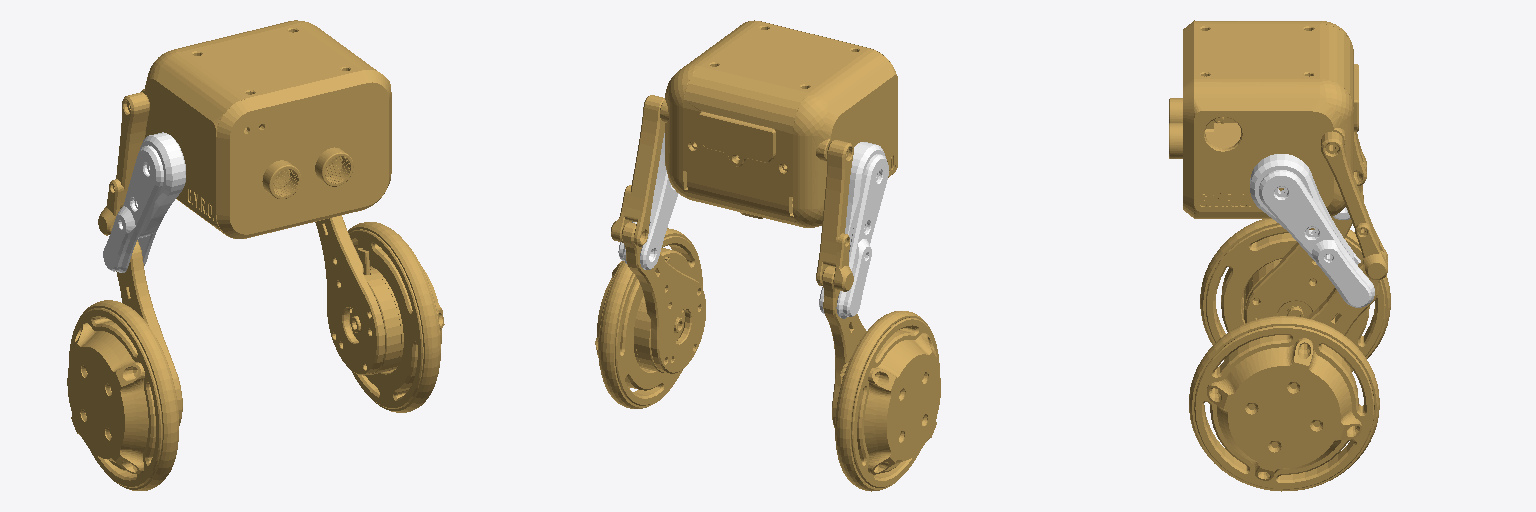
robot.urdf — final_assem1:
<?xml version="1.0" encoding="utf-8"?>
<!-- This URDF was automatically created by SolidWorks to URDF Exporter! Originally created by Stephen Brawner (brawner@gmail.com) 
     Commit Version: 1.6.0-4-g7f85cfe  Build Version: 1.6.7995.38578
     For more information, please see http://wiki.ros.org/sw_urdf_exporter -->
<robot
  name="final_assem1">
  <link
    name="base_link">
    <inertial>
      <origin
        xyz="-0.000139721801491114 -0.00891990633346567 0.0545743288243184"
        rpy="0 0 0" />
      <mass
        value="0.159950800281223" />
      <inertia
        ixx="0.000101651221169945"
        ixy="-5.03027315632965E-07"
        ixz="-3.14720393636409E-07"
        iyy="8.30155851218814E-05"
        iyz="-1.16211308639477E-07"
        izz="7.63971955846295E-05" />
    </inertial>
    <visual>
      <origin
        xyz="0 0 0"
        rpy="0 0 0" />
      <geometry>
        <mesh
          filename="package://final_assem1/meshes/base_link.STL" />
      </geometry>
      <material
        name="">
        <color
          rgba="0.831372549019608 0.690196078431373 0.411764705882353 1" />
      </material>
    </visual>
    <collision>
      <origin
        xyz="0 0 0"
        rpy="0 0 0" />
      <geometry>
        <mesh
          filename="package://final_assem1/meshes/base_link.STL" />
      </geometry>
    </collision>
  </link>
  <link
    name="left_upper_leg">
    <inertial>
      <origin
        xyz="-0.00184708635185678 0.0100059621422932 -0.0285283368255314"
        rpy="0 0 0" />
      <mass
        value="0.00481811147020876" />
      <inertia
        ixx="1.41741993918074E-06"
        ixy="4.69213357044146E-09"
        ixz="-1.38700106399785E-08"
        iyy="1.27343060592573E-06"
        iyz="4.28528860028656E-07"
        izz="2.07027979604884E-07" />
    </inertial>
    <visual>
      <origin
        xyz="0 0 0"
        rpy="0 0 0" />
      <geometry>
        <mesh
          filename="package://final_assem1/meshes/left_upper_leg.STL" />
      </geometry>
      <material
        name="">
        <color
          rgba="0.831372549019608 0.690196078431373 0.411764705882353 1" />
      </material>
    </visual>
    <collision>
      <origin
        xyz="0 0 0"
        rpy="0 0 0" />
      <geometry>
        <mesh
          filename="package://final_assem1/meshes/left_upper_leg.STL" />
      </geometry>
    </collision>
  </link>
  <joint
    name="left_hip_joint "
    type="revolute">
    <origin
      xyz="0.051451 0.021878 0.068469"
      rpy="0 0 0" />
    <parent
      link="base_link" />
    <child
      link="left_upper_leg" />
    <axis
      xyz="0 1 0" />
    <limit
      lower="-1.5708"
      upper="1.5708"
      effort="10"
      velocity="1" />
  </joint>
  <link
    name="left_white_link">
    <inertial>
      <origin
        xyz="-0.00351284833519087 0.0128483484296868 -0.0184981200243466"
        rpy="0 0 0" />
      <mass
        value="0.0136561820327731" />
      <inertia
        ixx="6.17217204117299E-06"
        ixy="4.19205286188994E-08"
        ixz="-6.25043138706162E-08"
        iyy="4.07412559256232E-06"
        iyz="2.44806528777692E-06"
        izz="2.26520125441869E-06" />
    </inertial>
    <visual>
      <origin
        xyz="0 0 0"
        rpy="0 0 0" />
      <geometry>
        <mesh
          filename="package://final_assem1/meshes/left_white_link.STL" />
      </geometry>
      <material
        name="">
        <color
          rgba="1 1 1 1" />
      </material>
    </visual>
    <collision>
      <origin
        xyz="0 0 0"
        rpy="0 0 0" />
      <geometry>
        <mesh
          filename="package://final_assem1/meshes/left_white_link.STL" />
      </geometry>
    </collision>
  </link>
  <joint
    name="left_white_top_joint"
    type="revolute">
    <origin
      xyz="0.054451 -0.00061239 0.048645"
      rpy="0 0 0" />
    <parent
      link="base_link" />
    <child
      link="left_white_link" />
    <axis
      xyz="0 1 0" />
    <limit
      lower="-1.5708"
      upper="1.5708"
      effort="10"
      velocity="1" />
  </joint>
  <link
    name="left_lower_leg">
    <inertial>
      <origin
        xyz="0.00231170043375459 -0.020218633930963 -0.0300564744848089"
        rpy="0 0 0" />
      <mass
        value="0.0110711607256669" />
      <inertia
        ixx="9.00075441423128E-06"
        ixy="-7.53431601817711E-08"
        ixz="-1.1946791590394E-07"
        iyy="5.98802246702853E-06"
        iyz="-3.24532440359061E-06"
        izz="3.06893341498831E-06" />
    </inertial>
    <visual>
      <origin
        xyz="0 0 0"
        rpy="0 0 0" />
      <geometry>
        <mesh
          filename="package://final_assem1/meshes/left_lower_leg.STL" />
      </geometry>
      <material
        name="">
        <color
          rgba="0.831372549019608 0.690196078431373 0.411764705882353 1" />
      </material>
    </visual>
    <collision>
      <origin
        xyz="0 0 0"
        rpy="0 0 0" />
      <geometry>
        <mesh
          filename="package://final_assem1/meshes/left_lower_leg.STL" />
      </geometry>
    </collision>
  </link>
  <joint
    name="left_white_bottom_joint"
    type="revolute">
    <origin
      xyz="-0.007 0.034106 -0.049363"
      rpy="0 0 0" />
    <parent
      link="left_white_link" />
    <child
      link="left_lower_leg" />
    <axis
      xyz="0 1 0" />
    <limit
      lower="-1.5708"
      upper="1.5708"
      effort="10"
      velocity="1" />
  </joint>
  <link
    name="left_wheel">
    <inertial>
      <origin
        xyz="0.0163975042181896 1.4942408367094E-06 1.44789380471799E-05"
        rpy="0 0 0" />
      <mass
        value="0.0821704328888881" />
      <inertia
        ixx="5.18918517468186E-05"
        ixy="1.09627495767423E-09"
        ixz="1.03037099311579E-08"
        iyy="2.85934695475492E-05"
        iyz="-6.63185847403858E-09"
        izz="2.85331674559978E-05" />
    </inertial>
    <visual>
      <origin
        xyz="0 0 0"
        rpy="0 0 0" />
      <geometry>
        <mesh
          filename="package://final_assem1/meshes/left_wheel.STL" />
      </geometry>
      <material
        name="">
        <color
          rgba="0.831372549019608 0.690196078431373 0.411764705882353 1" />
      </material>
    </visual>
    <collision>
      <origin
        xyz="0 0 0"
        rpy="0 0 0" />
      <geometry>
        <mesh
          filename="package://final_assem1/meshes/left_wheel.STL" />
      </geometry>
    </collision>
  </link>
  <joint
    name="left_wheel_joint"
    type="continuous">
    <origin
      xyz="0.0012149 -0.032821 -0.050227"
      rpy="0 0 0" />
    <parent
      link="left_lower_leg" />
    <child
      link="left_wheel" />
    <axis
      xyz="0 1 0" />
    <limit
      effort="10"
      velocity="5" />
  </joint>
  <link
    name="right_upper_leg">
    <inertial>
      <origin
        xyz="0.00184708627605789 0.00527582762359724 -0.0297682879095216"
        rpy="0 0 0" />
      <mass
        value="0.00481811162392332" />
      <inertia
        ixx="1.4174199151064E-06"
        ixy="-2.39468925659096E-09"
        ixz="1.44450248819537E-08"
        iyy="1.38207853254159E-06"
        iyz="2.36580110271676E-07"
        izz="9.83800252413466E-08" />
    </inertial>
    <visual>
      <origin
        xyz="0 0 0"
        rpy="0 0 0" />
      <geometry>
        <mesh
          filename="package://final_assem1/meshes/right_upper_leg.STL" />
      </geometry>
      <material
        name="">
        <color
          rgba="0.831372549019608 0.690196078431373 0.411764705882353 1" />
      </material>
    </visual>
    <collision>
      <origin
        xyz="0 0 0"
        rpy="0 0 0" />
      <geometry>
        <mesh
          filename="package://final_assem1/meshes/right_upper_leg.STL" />
      </geometry>
    </collision>
  </link>
  <joint
    name="right_hip_joint"
    type="revolute">
    <origin
      xyz="-0.051549 0.021878 0.068469"
      rpy="0 0 0" />
    <parent
      link="base_link" />
    <child
      link="right_upper_leg" />
    <axis
      xyz="0 1 0" />
    <limit
      lower="-1.5708"
      upper="1.5708"
      effort="10"
      velocity="1" />
  </joint>
  <link
    name="right_white_link">
    <inertial>
      <origin
        xyz="0.00351284822399885 0.0104053715429721 -0.0199747016894158"
        rpy="0 0 0" />
      <mass
        value="0.013656181652782" />
      <inertia
        ixx="6.17217197752315E-06"
        ixy="-3.36777800830508E-08"
        ixz="6.73047936266072E-08"
        iyy="4.65950990674751E-06"
        iyz="2.14276287575573E-06"
        izz="1.6798168741624E-06" />
    </inertial>
    <visual>
      <origin
        xyz="0 0 0"
        rpy="0 0 0" />
      <geometry>
        <mesh
          filename="package://final_assem1/meshes/right_white_link.STL" />
      </geometry>
      <material
        name="">
        <color
          rgba="1 1 1 1" />
      </material>
    </visual>
    <collision>
      <origin
        xyz="0 0 0"
        rpy="0 0 0" />
      <geometry>
        <mesh
          filename="package://final_assem1/meshes/right_white_link.STL" />
      </geometry>
    </collision>
  </link>
  <joint
    name="right_white_top_joint"
    type="revolute">
    <origin
      xyz="-0.054549 -0.00061239 0.048645"
      rpy="0 0 0" />
    <parent
      link="base_link" />
    <child
      link="right_white_link" />
    <axis
      xyz="0 1 0" />
    <limit
      lower="-1.5708"
      upper="1.5708"
      effort="10"
      velocity="1" />
  </joint>
  <link
    name="right_lower_leg">
    <inertial>
      <origin
        xyz="0.00343829839865448 -0.0133321356992642 -0.033681435773528"
        rpy="0 0 0" />
      <mass
        value="0.0110711643117395" />
      <inertia
        ixx="9.00075506732013E-06"
        ixy="4.80866984296022E-08"
        ixz="1.32803764739554E-07"
        iyy="7.2092196083704E-06"
        iyz="-2.34009087652803E-06"
        izz="1.84773702007399E-06" />
    </inertial>
    <visual>
      <origin
        xyz="0 0 0"
        rpy="0 0 0" />
      <geometry>
        <mesh
          filename="package://final_assem1/meshes/right_lower_leg.STL" />
      </geometry>
      <material
        name="">
        <color
          rgba="0.831372549019608 0.690196078431373 0.411764705882353 1" />
      </material>
    </visual>
    <collision>
      <origin
        xyz="0 0 0"
        rpy="0 0 0" />
      <geometry>
        <mesh
          filename="package://final_assem1/meshes/right_lower_leg.STL" />
      </geometry>
    </collision>
  </link>
  <joint
    name="right_white_bottom_joint"
    type="revolute">
    <origin
      xyz="0.00125 0.027589 -0.053281"
      rpy="0 0 0" />
    <parent
      link="right_white_link" />
    <child
      link="right_lower_leg" />
    <axis
      xyz="0 1 0" />
    <limit
      lower="-1.5708"
      upper="1.5708"
      effort="10"
      velocity="1" />
  </joint>
  <link
    name="right_wheel">
    <inertial>
      <origin
        xyz="-0.0146672533221633 1.03931062572886E-05 1.01744143693044E-05"
        rpy="0 0 0" />
      <mass
        value="0.0821706718156144" />
      <inertia
        ixx="5.18920334203968E-05"
        ixy="-7.40037922901773E-09"
        ixz="-7.2431054293338E-09"
        iyy="2.85625149520643E-05"
        iyz="-3.08581804877213E-08"
        izz="2.85643061419357E-05" />
    </inertial>
    <visual>
      <origin
        xyz="0 0 0"
        rpy="0 0 0" />
      <geometry>
        <mesh
          filename="package://final_assem1/meshes/right_wheel.STL" />
      </geometry>
      <material
        name="">
        <color
          rgba="0.831372549019608 0.690196078431373 0.411764705882353 1" />
      </material>
    </visual>
    <collision>
      <origin
        xyz="0 0 0"
        rpy="0 0 0" />
      <geometry>
        <mesh
          filename="package://final_assem1/meshes/right_wheel.STL" />
      </geometry>
    </collision>
  </link>
  <joint
    name="right_wheel_joint"
    type="continuous">
    <origin
      xyz="0.0028252 -0.021336 -0.056078"
      rpy="0 0 0" />
    <parent
      link="right_lower_leg" />
    <child
      link="right_wheel" />
    <axis
      xyz="-1 0 0" />
    <limit
      effort="10"
      velocity="5" />
  </joint>
</robot>

--- What the picture shows (computed from the rendered views, not written in the file) ---
Views: 3 orthographic renders of the robot side by side, from view 1: azimuth 30°, elevation 25°; view 2: azimuth 150°, elevation 25°; view 3: azimuth 270°, elevation 25°.
Model final_assem1 with 9 links and 8 joints (6 revolute, 2 continuous), rooted at base_link, posed all joints at 0.
Links seen in each view (by area): view 1: base_link, right_wheel, left_wheel, left_lower_leg, right_white_link, right_upper_leg, right_lower_leg; view 2: base_link, right_wheel, left_wheel, left_lower_leg, right_white_link, right_upper_leg, left_upper_leg, right_lower_leg, left_white_link; view 3: base_link, left_wheel, right_wheel, left_white_link, right_lower_leg, left_upper_leg, left_lower_leg.
Link boxes in pixels (x1=…): base_link: x1=141, y1=20, x2=391, y2=238; right_wheel: x1=67, y1=300, x2=178, y2=490; left_wheel: x1=348, y1=222, x2=444, y2=412; left_lower_leg: x1=315, y1=215, x2=384, y2=375; right_white_link: x1=103, y1=132, x2=185, y2=272; right_upper_leg: x1=98, y1=92, x2=149, y2=235; right_lower_leg: x1=116, y1=240, x2=182, y2=425; base_link: x1=660, y1=20, x2=897, y2=227; right_wheel: x1=835, y1=311, x2=940, y2=491; left_wheel: x1=595, y1=228, x2=702, y2=408; left_lower_leg: x1=622, y1=222, x2=705, y2=373; right_white_link: x1=819, y1=142, x2=888, y2=318; right_upper_leg: x1=816, y1=140, x2=853, y2=291; left_upper_leg: x1=611, y1=95, x2=664, y2=246; right_lower_leg: x1=822, y1=266, x2=866, y2=427; left_white_link: x1=618, y1=133, x2=678, y2=269; base_link: x1=1169, y1=20, x2=1358, y2=218; left_wheel: x1=1189, y1=316, x2=1379, y2=491; right_wheel: x1=1200, y1=219, x2=1390, y2=371; left_white_link: x1=1250, y1=154, x2=1374, y2=307; right_lower_leg: x1=1245, y1=162, x2=1366, y2=322; left_upper_leg: x1=1321, y1=131, x2=1387, y2=279; left_lower_leg: x1=1306, y1=251, x2=1387, y2=335.
Size in the robot's own frame: 0.1564 by 0.0985 by 0.1948 metres.
9 mesh visuals loaded from 9 distinct referenced files (9 binary STL).
